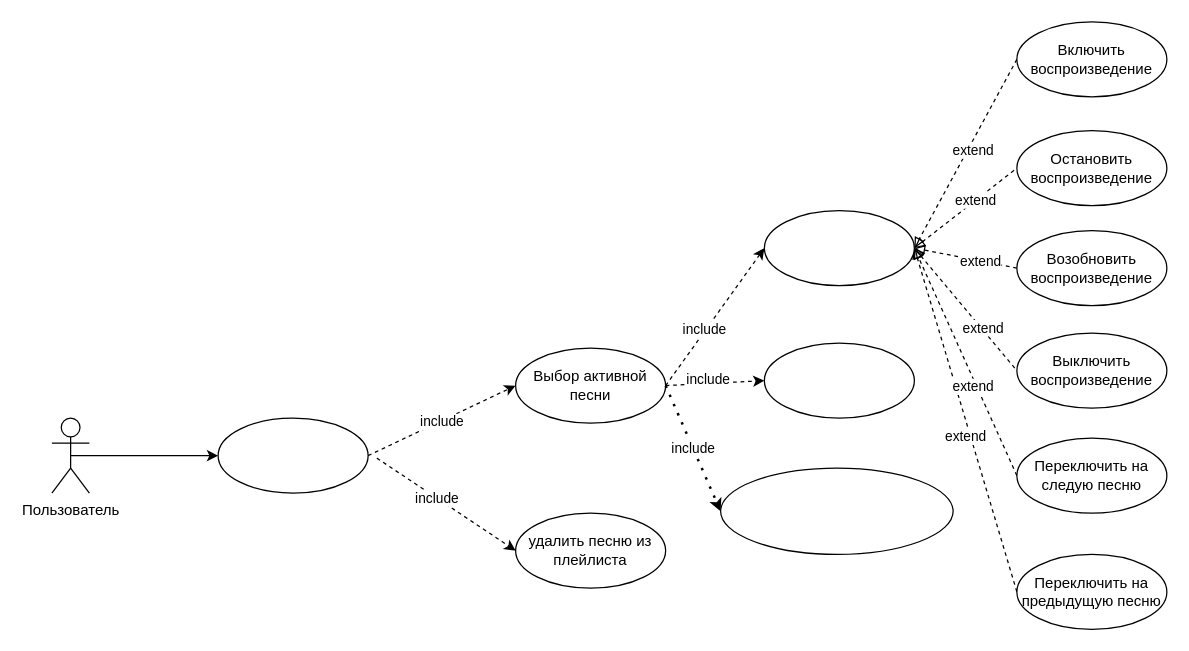
Some shapes in this 1189 by 651 pixel diagram are drawn without their labels. The shapes that lost their labels are listed below. From the top down, each one's centre as x and y in pixels, then its label:
At (x=838, y=247): "Управление воспроизведением аудио".
At (x=838, y=380): "добавить песню в плейлист".
At (x=292, y=455): "Управление плейлистом".
At (x=836, y=510): "добавить песню в плейлист через UML с платформы Youtube".
